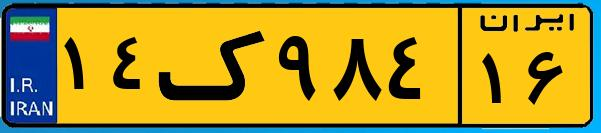1: (57, 26, 110, 100), (475, 38, 525, 113)
4: (385, 28, 445, 110), (110, 28, 158, 98)
6: (525, 38, 570, 115)
8: (330, 28, 385, 110)
9: (270, 28, 330, 110)
ک: (158, 12, 270, 120)
